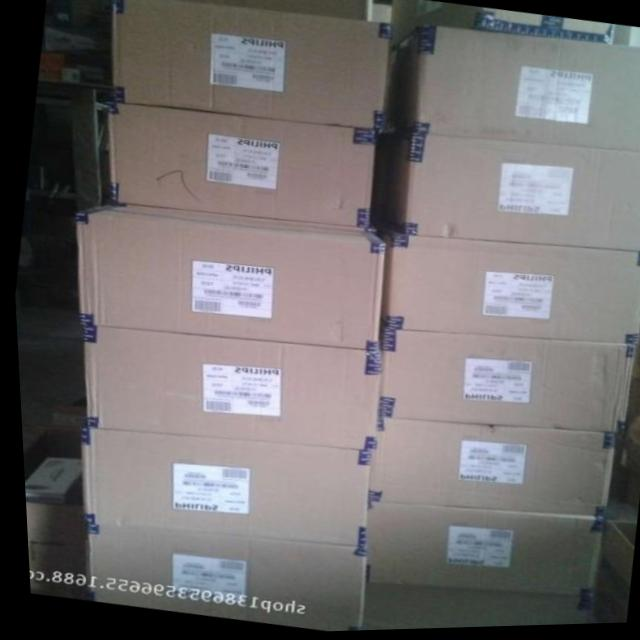box: (75, 206, 386, 353), (79, 326, 381, 453), (111, 0, 391, 133), (83, 427, 367, 550), (107, 103, 376, 229), (381, 131, 640, 255), (387, 31, 640, 156), (380, 237, 640, 349), (82, 528, 359, 633), (376, 332, 631, 436), (364, 419, 612, 523), (357, 505, 593, 600), (390, 0, 617, 48), (173, 0, 368, 23)
